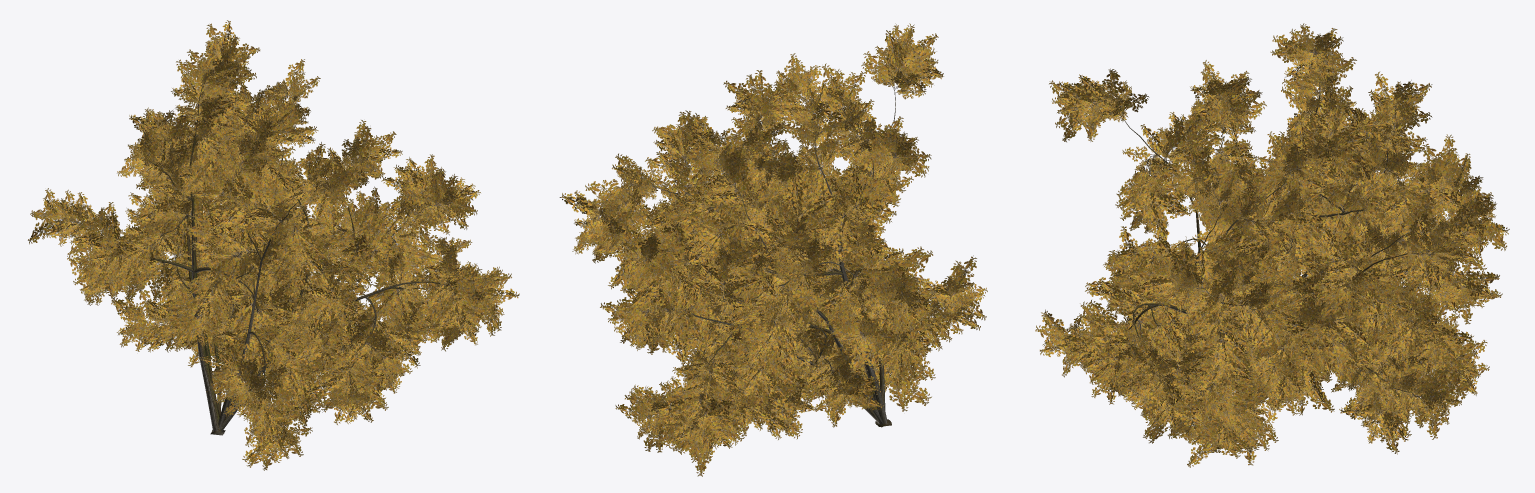
File: gameready_bush.glb
3 views of the same model, side by side, from view 1: azimuth 30°, elevation 25°; view 2: azimuth 150°, elevation 25°; view 3: azimuth 270°, elevation 25° (orthographic). The views are drawn at different scales.
Visible parts, largest first — view 1: Tree_2; view 2: Tree_2; view 3: Tree_2.
Part boxes in pixels (box(x1,y1,x2,y2)): Tree_2: box(28, 20, 519, 470); Tree_2: box(559, 23, 987, 476); Tree_2: box(1035, 23, 1509, 467).
Size of the model in its own units: 29.35 by 28.25 by 29.49.
Materials: 2 (2 with a texture image).
